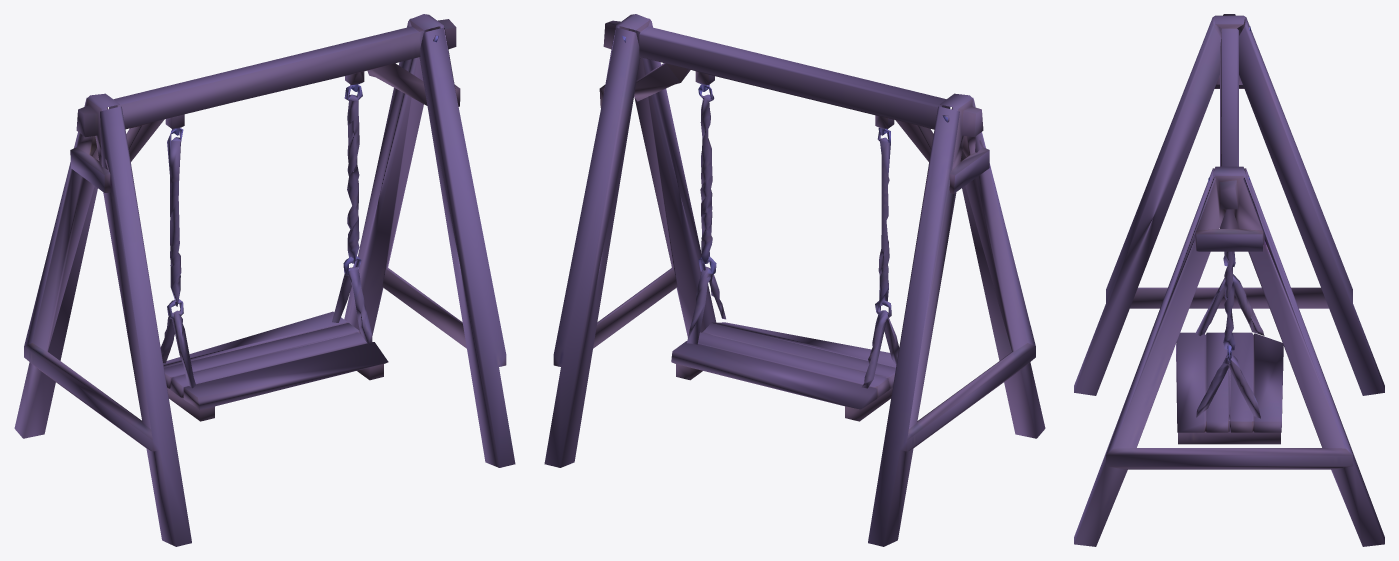
The model's file is model.progressive.glb.
3 views of the same model, side by side, from view 1: azimuth 30°, elevation 25°; view 2: azimuth 150°, elevation 25°; view 3: azimuth 270°, elevation 25° (orthographic). The views are drawn at different scales.
Visible parts, largest first — view 1: material; view 2: material; view 3: material.
Boxes of the visible parts, x1,y1,x2,y2 form: material: [14, 14, 515, 546]; material: [544, 14, 1045, 546]; material: [1074, 14, 1384, 546].
Bounding box in the file's own units: 1.9 × 1.9 × 1.44.
Materials: 1 (1 with a texture image).
